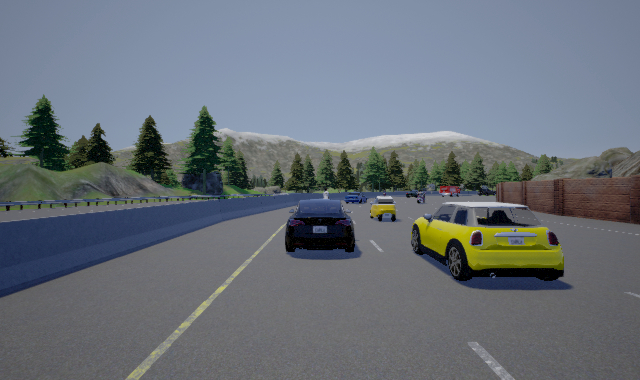vehicle: (411, 202, 564, 281), (285, 199, 355, 253), (370, 196, 397, 222), (438, 184, 461, 198), (344, 191, 366, 205), (404, 189, 426, 201)
